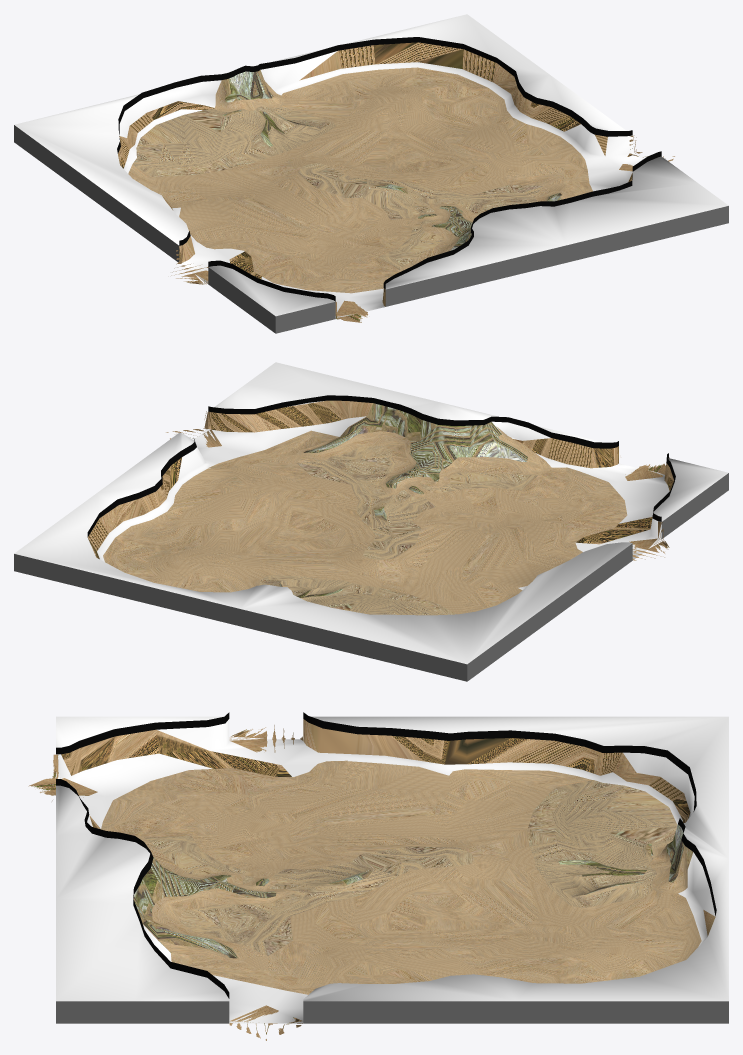
Rendered from view.obj.
3 views of the same model, one above another, from view 1: azimuth 30°, elevation 25°; view 2: azimuth 150°, elevation 25°; view 3: azimuth 270°, elevation 25° (orthographic). The views are drawn at different scales.
Size of the model in its own units: 1530 by 115 by 1445.
